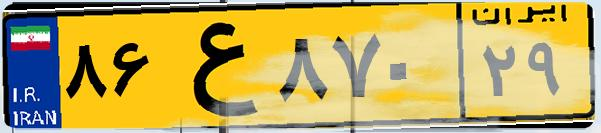0: (385, 28, 445, 110)
2: (475, 38, 525, 113)
6: (110, 28, 158, 98)
7: (330, 28, 385, 110)
8: (270, 28, 330, 110), (57, 26, 110, 100)
9: (525, 38, 570, 115)
ع: (158, 12, 270, 120)
